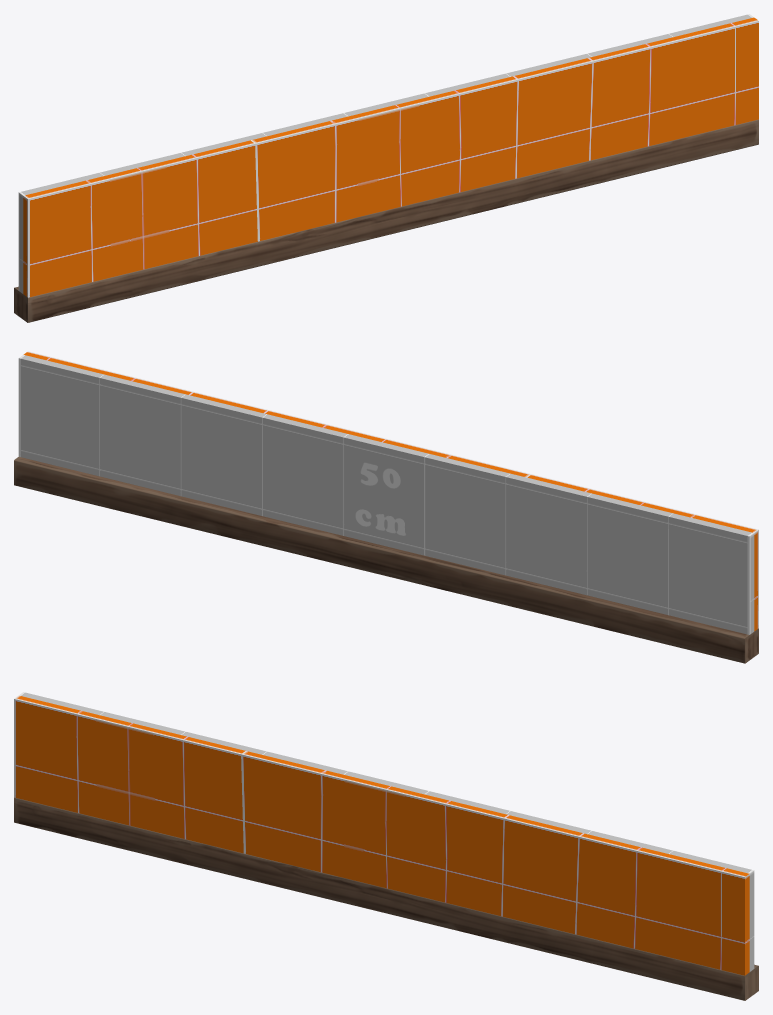
File: Hangar01W_5.FBX
The picture shows the model from 3 angles, top to bottom: view 1: azimuth 30°, elevation 25°; view 2: azimuth 150°, elevation 25°; view 3: azimuth 330°, elevation 25°; orthographic projection.
Visible parts, largest first — view 1: Hangar01W_5; view 2: Hangar01W_5; view 3: Hangar01W_5.
Boxes of the visible parts, left/top/right/bottom form: Hangar01W_5: left=14, top=14, right=758, bottom=322; Hangar01W_5: left=14, top=351, right=758, bottom=663; Hangar01W_5: left=14, top=692, right=758, bottom=1000.
Size of what is drawn, in the model's own units: 4.5 by 0.7296 by 0.15.
